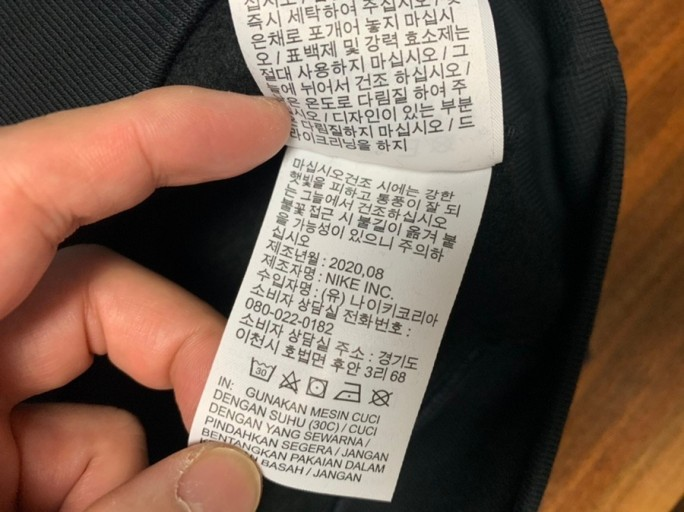ER_iron_low_temp: (332, 377, 364, 406)
ER_no_bleach: (277, 369, 301, 395)
ER_no_dry_clean: (368, 384, 393, 410)
ER_tumble_dry_low_heat: (304, 372, 331, 401)
ER_wash_30: (247, 354, 278, 383)
